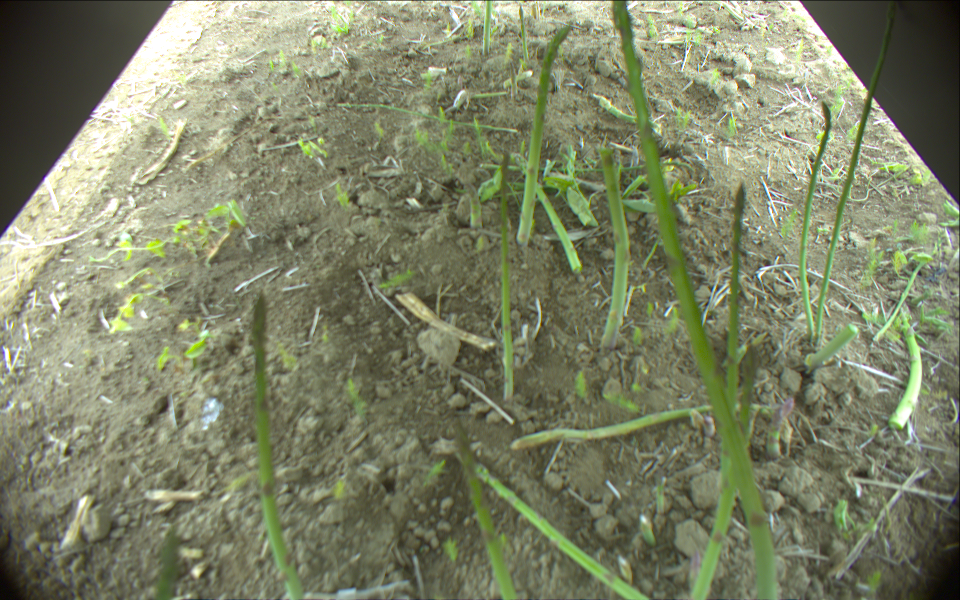aspa: (610, 1, 781, 600), (453, 451, 652, 600), (813, 1, 898, 348), (686, 343, 760, 600), (253, 292, 306, 600), (510, 402, 768, 454), (516, 22, 573, 245), (452, 422, 516, 600), (799, 98, 834, 341), (514, 152, 583, 273), (720, 182, 746, 493), (874, 240, 939, 342), (599, 147, 630, 349), (333, 102, 520, 134), (497, 147, 515, 402), (888, 311, 924, 430), (805, 322, 858, 368), (153, 527, 181, 600), (767, 399, 794, 458), (597, 95, 639, 125), (462, 182, 482, 229), (518, 6, 530, 59), (483, 1, 491, 53)
